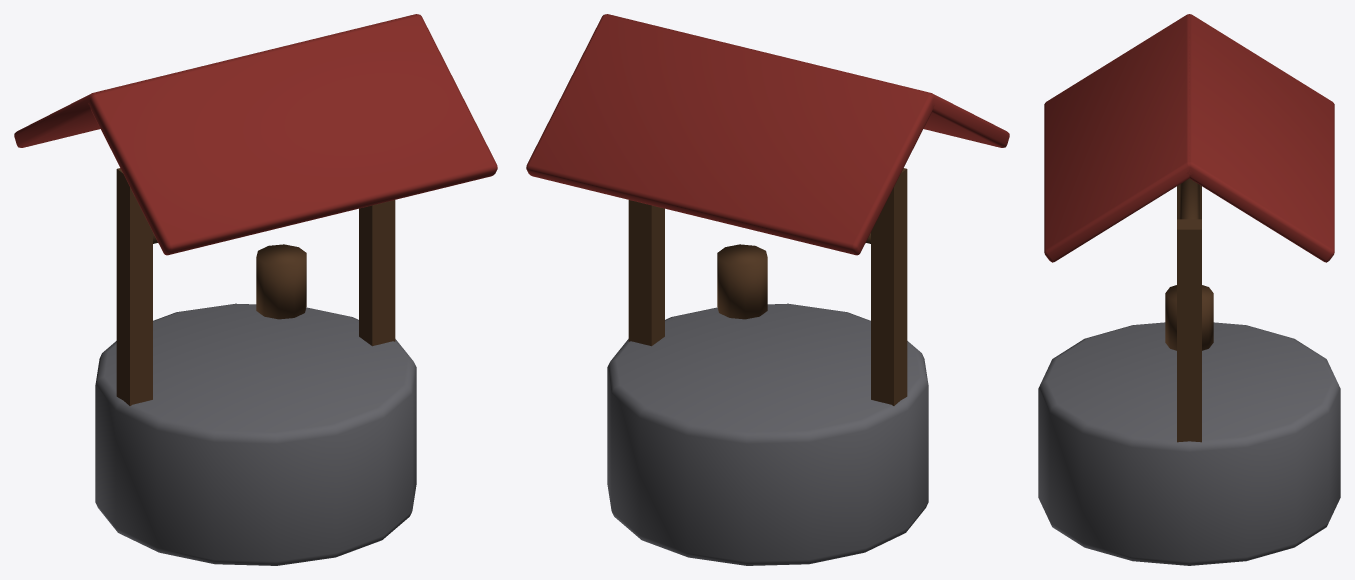
Rendered from well.glb.
3 renders of one model, left to right at view 1: azimuth 30°, elevation 25°; view 2: azimuth 150°, elevation 25°; view 3: azimuth 270°, elevation 25°, orthographic. The views are drawn at different scales.
Parts seen in each view (by area): view 1: well; view 2: well; view 3: well.
Boxes of the visible parts, x1,y1,x2,y2 form: well: [14, 14, 497, 565]; well: [526, 14, 1009, 565]; well: [1038, 14, 1340, 565].
Bounding box in the file's own units: 2.6 × 3.35 × 2.2.
